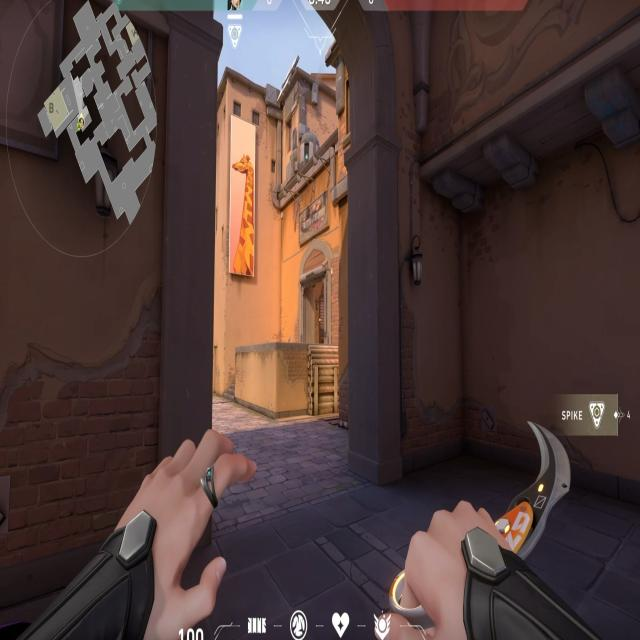B_Cubby: (270, 338, 340, 419)
